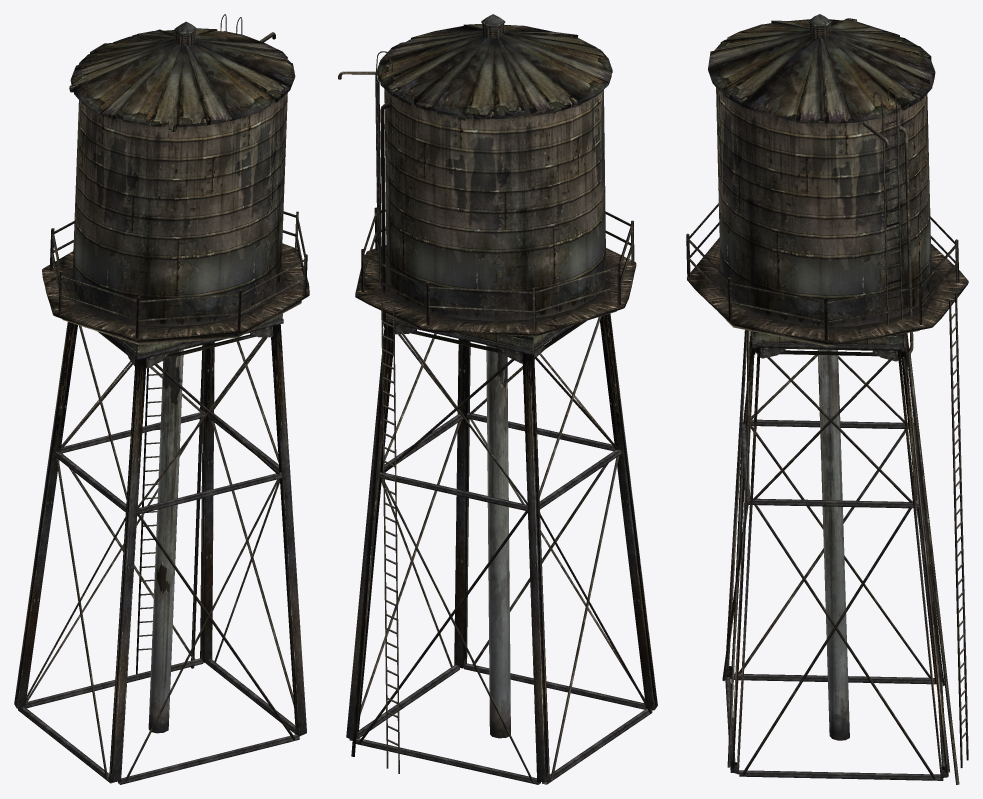
The model's file is WATER TANK.fbx.
The picture shows the model from 3 angles, left to right: view 1: azimuth 30°, elevation 25°; view 2: azimuth 150°, elevation 25°; view 3: azimuth 270°, elevation 25°; orthographic projection. The views are drawn at different scales.
Parts seen in each view (by area): view 1: Object_4; view 2: Object_4; view 3: Object_4.
Boxes of the visible parts, left/top/right/bottom form: Object_4: left=14, top=14, right=309, bottom=784; Object_4: left=338, top=14, right=657, bottom=784; Object_4: left=686, top=14, right=968, bottom=784.
Bounding box in the file's own units: 1068 × 2871 × 999.
1 material, 1 textured.
